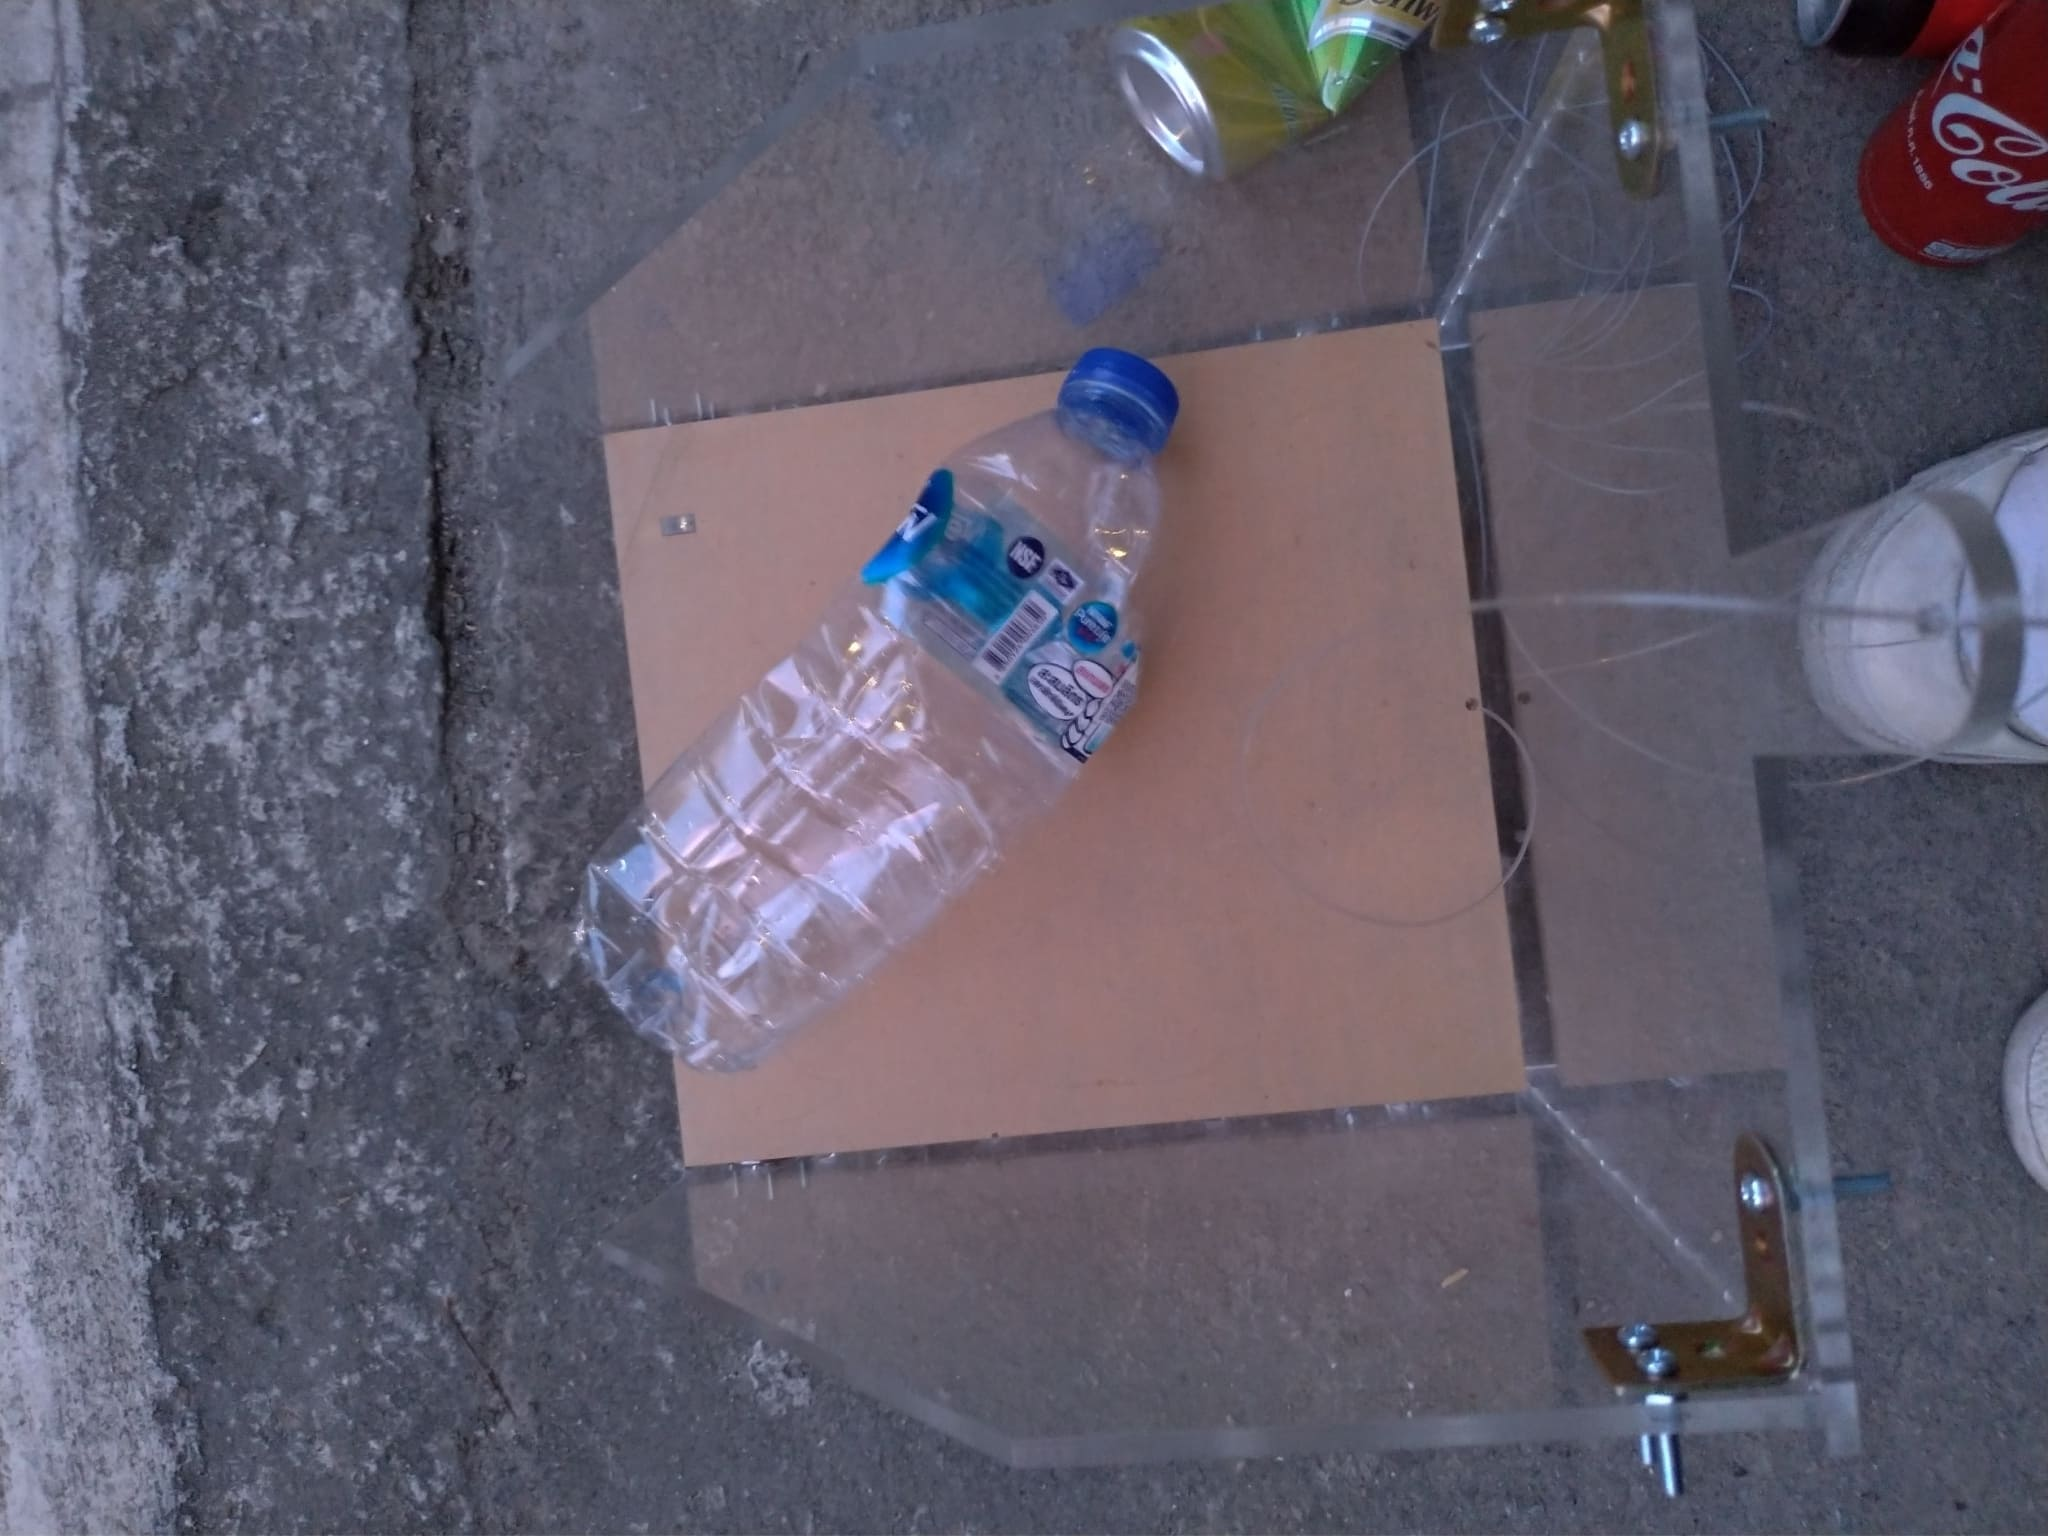AlCan: (1100, 5, 1443, 190), (1856, 2, 2048, 273), (1800, 3, 1982, 55)
PlasticBottle: (568, 345, 1185, 1079)
